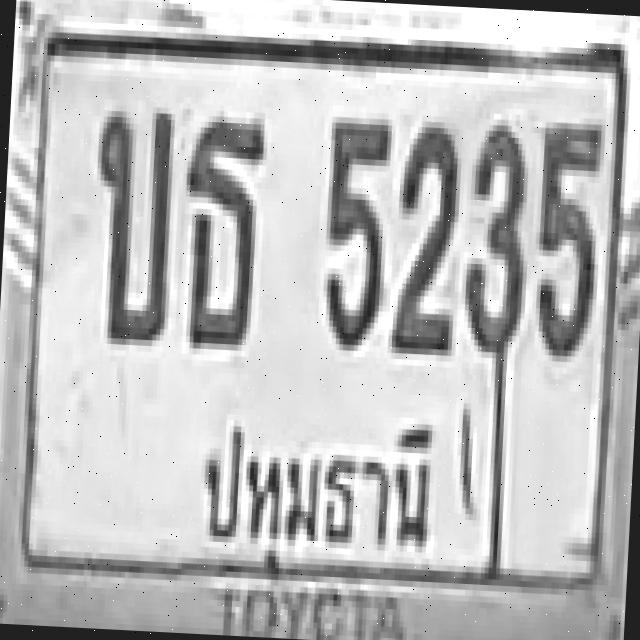2: (388, 120, 460, 350)
3: (459, 119, 527, 354)
33ThorThong: (174, 109, 265, 345)
35BorBaiMai: (85, 102, 176, 344)
5: (530, 116, 602, 358), (317, 111, 389, 346)
PathumThani: (187, 408, 455, 584)
